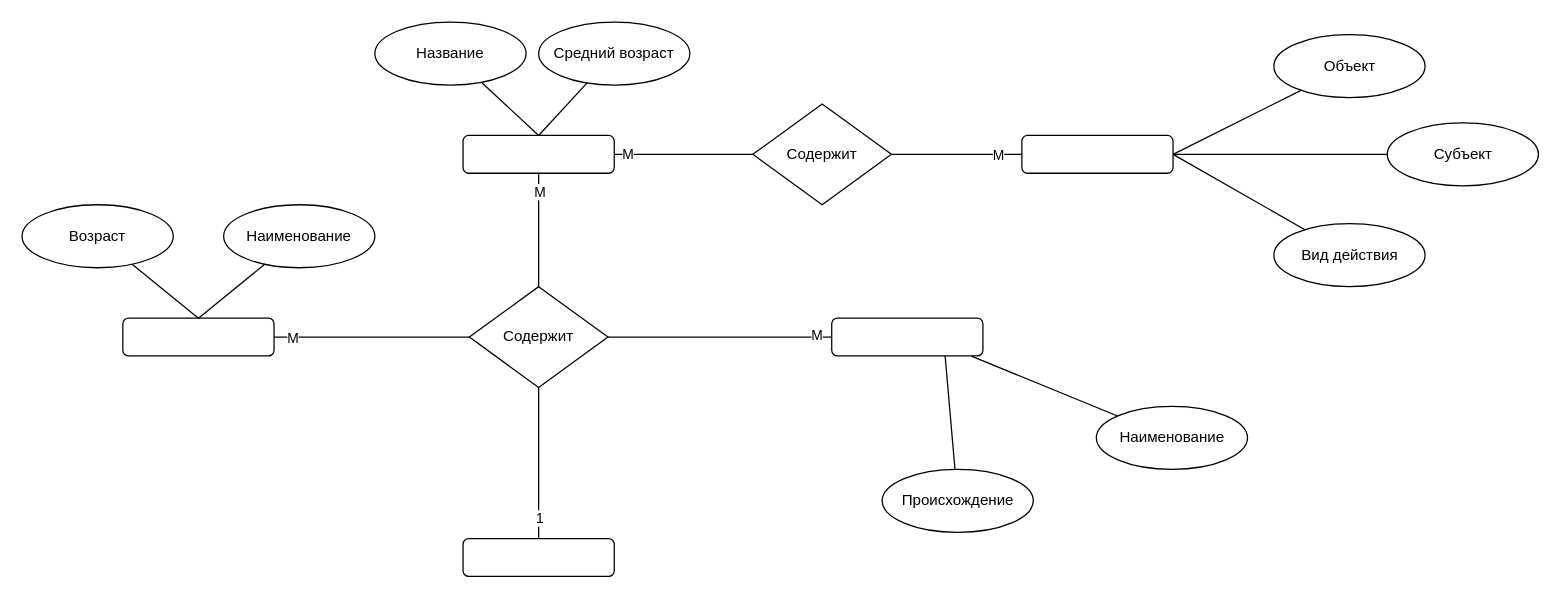
This 1561x599 diagram has some shape labels left out. Each missing label, with the centre of its shape:
Группы людей: point 538,153
Действия: point 1097,153
Локация: point 198,336
Навигация: point 538,556
Предметы: point 906,336
